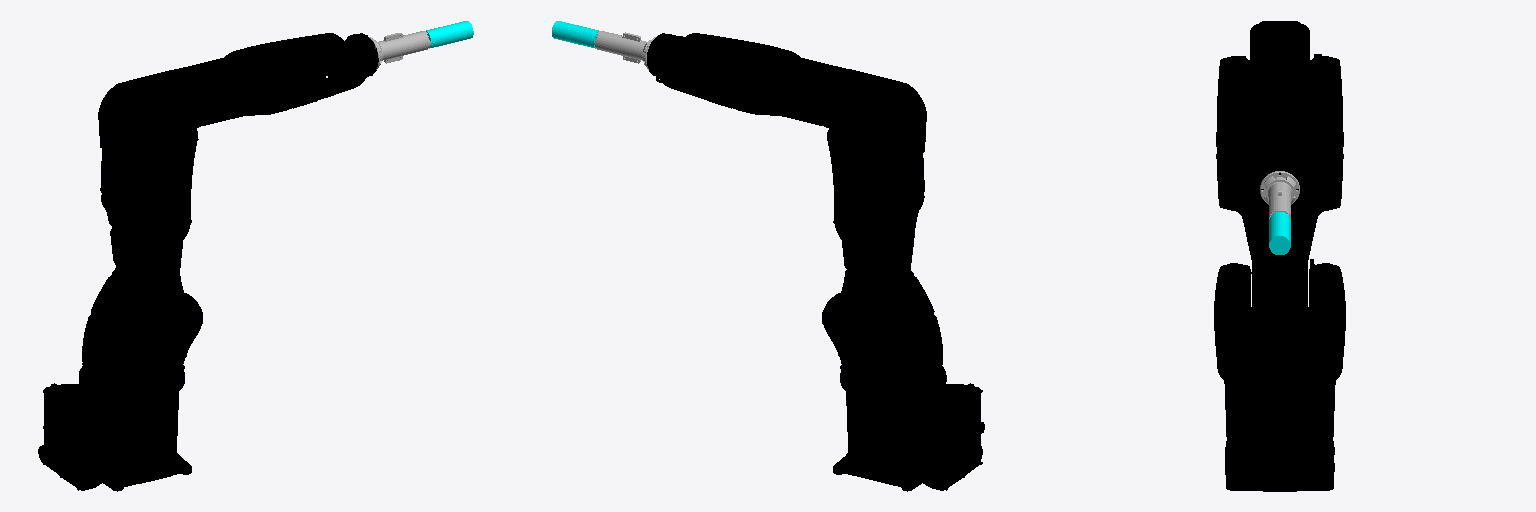
robot.urdf — mz07L:
<?xml version="1.0" encoding="utf-8"?>

<robot name="mz07L">
  <link name="base_link">
    <visual>
      <geometry>
        <mesh filename="package://mz07l_description/meshes/visual/mz07_base_link.dae" />
      </geometry>
      <material name="white">
        <color rgba="0 0 0 0.5"/>
      </material>
    </visual>
    <collision>
      <geometry>
        <mesh filename="package://mz07l_description/meshes/collision/mz07_base_link.STL" />
      </geometry>
    </collision>
  </link>
  <link name="link1">
    <visual>
      <geometry>
        <mesh filename="package://mz07l_description/meshes/visual/mz07_link1.dae" />
      </geometry>
      <material name="white">
        <color rgba="0 0 0 0.5"/>
      </material>
    </visual>
    <collision>
      <geometry>
        <mesh filename="package://mz07l_description/meshes/collision/mz07_link1.STL" />
      </geometry>
    </collision>
  </link>
  <joint name="joint_base_to_link1" type="revolute">
    <origin xyz="0 0 0.195" rpy="0 0 0" />
    <parent link="base_link" />
    <child link="link1" />
    <axis xyz="0 0 1" />
    <limit effort="100" lower="-2.9670" upper="2.9670" velocity="5.2359" />
  </joint>
  <link name="link2">
    <visual>
      <geometry>
        <mesh filename="package://mz07l_description/meshes/visual/mz07_link2.dae" />
      </geometry>
      <material name="white">
        <color rgba="0 0 0 0.5"/>
      </material>
    </visual>
    <collision>
      <geometry>
        <mesh filename="package://mz07l_description/meshes/collision/mz07_link2.STL" />
      </geometry>
    </collision>
  </link>
  <joint name="joint_link1_to_link2" type="revolute">
    <origin xyz="0.05 0 0.15" rpy="0 0 0" />
    <parent link="link1" />
    <child link="link2" />
    <axis xyz="0 -1 0" />
    <limit effort="100" lower="-2.3561" upper="1.3962" velocity="4.8869" />
  </joint>
  <link name="link3">
    <visual>
      <geometry>
        <mesh filename="package://mz07l_description/meshes/visual/mz07_link3.dae" />
      </geometry>
      <material name="white">
        <color rgba="0 0 0 0.5"/>
      </material>
    </visual>
    <collision>
      <geometry>
        <mesh filename="package://mz07l_description/meshes/collision/mz07_link3.STL" />
      </geometry>
    </collision>
  </link>
  <joint name="joint_link2_to_link3" type="revolute">
    <origin xyz="0 0 0.410" rpy="0 0 0" />
    <parent link="link2" />
    <child link="link3" />
    <axis xyz="0 -1 0" />
    <limit effort="100" lower="-2.373648" upper="4.712389" velocity="6.283185" />
  </joint>
  <link name="link4">
    <visual>
      <geometry>
        <mesh filename="package://mz07l_description/meshes/visual/mz07_link4.dae" />
      </geometry>
      <material name="white">
        <color rgba="0 0 0 0.5"/>
      </material>
    </visual>
    <collision>
      <geometry>
        <mesh filename="package://mz07l_description/meshes/collision/mz07_link4.STL" />
      </geometry>
    </collision>
  </link>
  <joint name="joint_link3_to_link4" type="revolute">
    <origin xyz="0.09 0 0.045" rpy="0 0 0" />
    <parent link="link3" />
    <child link="link4" />
    <axis xyz="1 0 0" />
    <limit effort="100" lower="-3.316126" upper="3.316126" velocity="9.599311" />
  </joint>
  <link name="link5">
    <visual>
      <geometry>
        <mesh filename="package://mz07l_description/meshes/visual/mz07_link5.dae" />
      </geometry>
      <material name="white">
        <color rgba="0 0 0 0.5"/>
      </material>
    </visual>
    <collision>
      <geometry>
        <mesh filename="package://mz07l_description/meshes/collision/mz07_link5.STL" />
      </geometry>
    </collision>
  </link>
  <joint name="joint_link4_to_link5" type="revolute">
    <origin xyz="0.350 0 0" rpy="0 0 0" />
    <parent link="link4" />
    <child link="link5" />
    <axis xyz="0 -1 0" />
    <limit effort="100" lower="-2.0943" upper="2.0943" velocity="9.599311" />
  </joint>
  <link name="link6">
    <visual>
    <origin xyz="0 0 0" rpy="0 0 0" />
      <geometry>
        <mesh filename="package://mz07l_description/meshes/visual/mz07_link6.dae" />
      </geometry>
      <material name="white">
        <color rgba="0 0 0 0.5"/>
      </material>
    </visual>
    <collision>
      <geometry>
        <mesh filename="package://mz07l_description/meshes/collision/mz07_link6.STL" />
      </geometry>
    </collision>
  </link>
  <joint name="joint_link5_to_link6" type="revolute">
    <origin xyz="0.073 0 0" rpy="0 1.570796 0" />
    <parent link="link5" />
    <child link="link6" />
    <axis xyz="0 0 1" />
    <limit effort="100" lower="-6.283185" upper="6.283185" velocity="17.453293" />
  </joint>

  <!-- <link name="gripper">
    <visual>
      <geometry>
          <mesh filename="package://mz07l_description/meshes/visual/piab_single_cup.dae" />
      </geometry>
      <material name="grey">
        <color rgba="0.75 0.75 0.75 1"/>
      </material>
    </visual>
    <collision>
      <geometry>
          <mesh filename="package://mz07l_description/meshes/collision/piab_single_cup.stl" />
      </geometry>
    </collision>
  </link>

  <joint name="gripper_joint" type="fixed">
      <parent link="link6" />
      <child link="gripper" />
      <origin rpy="0 0 0" xyz="0 0 0" />
  </joint>

  <link name="tcp"/>
  <joint name="tcp_joint" type="fixed">
    <origin rpy="0 0 -3.141592653589793" xyz="0 0 0.3"/>
    <parent link="gripper"/>
    <child link="tcp"/>
  </joint> -->

  <!-- robot-gripper adaptor mount -->
  <link name="gripper">
    <visual>
      <geometry>
          <mesh filename="package://mz07l_description/meshes/visual/piab_single_cup.dae" />
      </geometry>
      <material name="grey">
        <color rgba="0.75 0.75 0.75 1"/>
      </material>
    </visual>
    <collision>
      <geometry>
          <mesh filename="package://mz07l_description/meshes/collision/piab_single_cup.stl" />
      </geometry>
    </collision>
  </link>

  <joint name="gripper_joint" type="fixed">
      <parent link="link6" />
      <child link="gripper" />
      <origin rpy="1.570796 0 0" xyz="-0.035 0.035 0" />
  </joint>

  <!-- with spring gripper -->
  <link name="mount">
      <visual>
        <origin xyz="0 0 -0.074" rpy="0 0 0" />
            <geometry>
              <cylinder radius="0.019" length="0.1"/>
            </geometry>
            <material name="Cyan">
                <color rgba="0 1.0 1.0 1.0"/>
            </material>
      </visual>
      <collision>
          <origin xyz="0 0 -0.074" rpy="0 0 0"/>
            <geometry>
              <cylinder radius="0.019" length="0.1"/>
            </geometry>
      </collision>
  </link>

  <joint name="mount_joint" type="fixed">
    <origin rpy="1.570796 0 0" xyz="0.035 0.11 0.035"/>
    <parent link="gripper"/>
    <child link="mount"/>
  </joint>

  <link name="tcp"/>
  <joint name="tcp_joint" type="fixed">
      <origin rpy="0 3.141592653589793 0" xyz="0 0 -0.185"/>
      <parent link="mount"/>
      <child link="tcp"/>
  </joint>

</robot>

--- Facts derived from the render (not from the file) ---
The picture shows the robot from 3 angles, left to right: view 1: azimuth 30°, elevation 25°; view 2: azimuth 150°, elevation 25°; view 3: azimuth 270°, elevation 25°; orthographic projection.
Robot: mz07L — 10 links, 9 joints (6 revolute, 3 fixed); root link base_link; default pose: all joints at 0.
Visible links, largest first — view 1: link2, base_link, link1, link4, link3, gripper, link5, mount; view 2: link2, base_link, link1, link4, link3, gripper, link5, mount; view 3: link2, link1, base_link, link4, link3, gripper, link5, mount.
Boxes of the visible links, x1,y1,x2,y2 form: link2: (100, 112, 198, 330); base_link: (38, 383, 191, 491); link1: (79, 270, 202, 403); link4: (183, 33, 369, 125); link3: (98, 68, 204, 168); gripper: (369, 31, 430, 69); link5: (316, 33, 377, 76); mount: (426, 21, 473, 47); link2: (827, 112, 924, 330); base_link: (833, 383, 984, 491); link1: (822, 271, 946, 403); link4: (655, 33, 841, 125); link3: (821, 68, 926, 167); gripper: (594, 31, 655, 69); link5: (647, 33, 712, 75); mount: (552, 21, 598, 48); link2: (1216, 54, 1343, 337); link1: (1214, 259, 1345, 398); base_link: (1224, 381, 1335, 491); link4: (1242, 59, 1317, 197); link3: (1243, 21, 1311, 94); gripper: (1260, 171, 1299, 218); link5: (1253, 147, 1306, 206); mount: (1269, 212, 1290, 254).
Bounding box of the posed robot: 0.9844 × 0.23 × 0.8609 m (x, y, z).
Meshes: 8 distinct files referenced, 8 mesh visuals loaded (8 Collada DAE).
